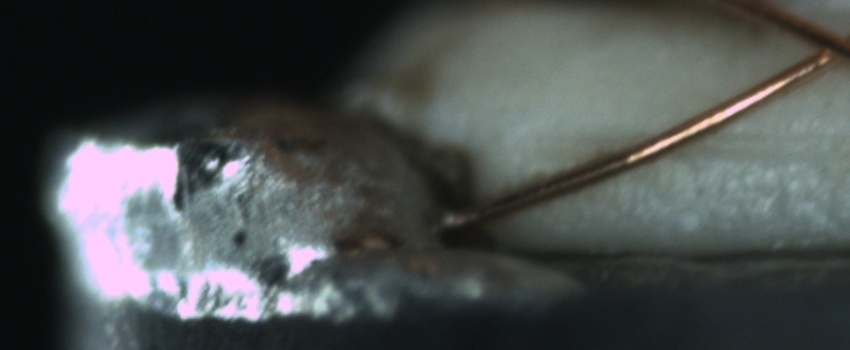CL: (791, 17, 848, 76)
DL: (559, 114, 843, 175)
